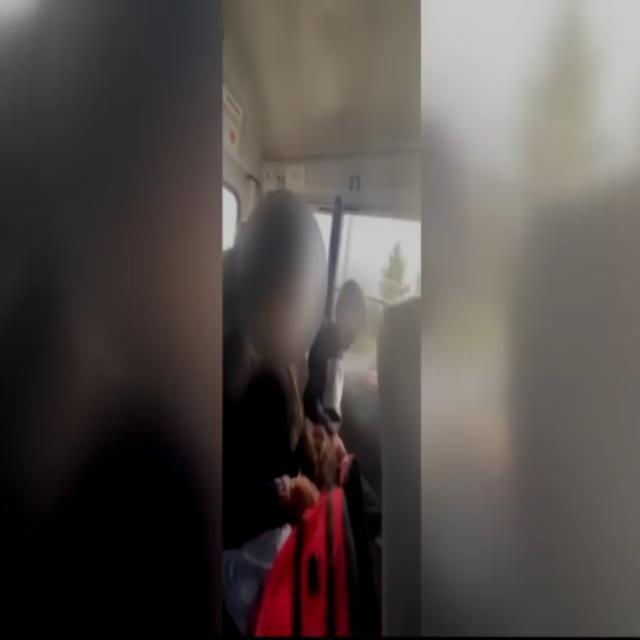non-fight: (229, 189, 388, 613)
